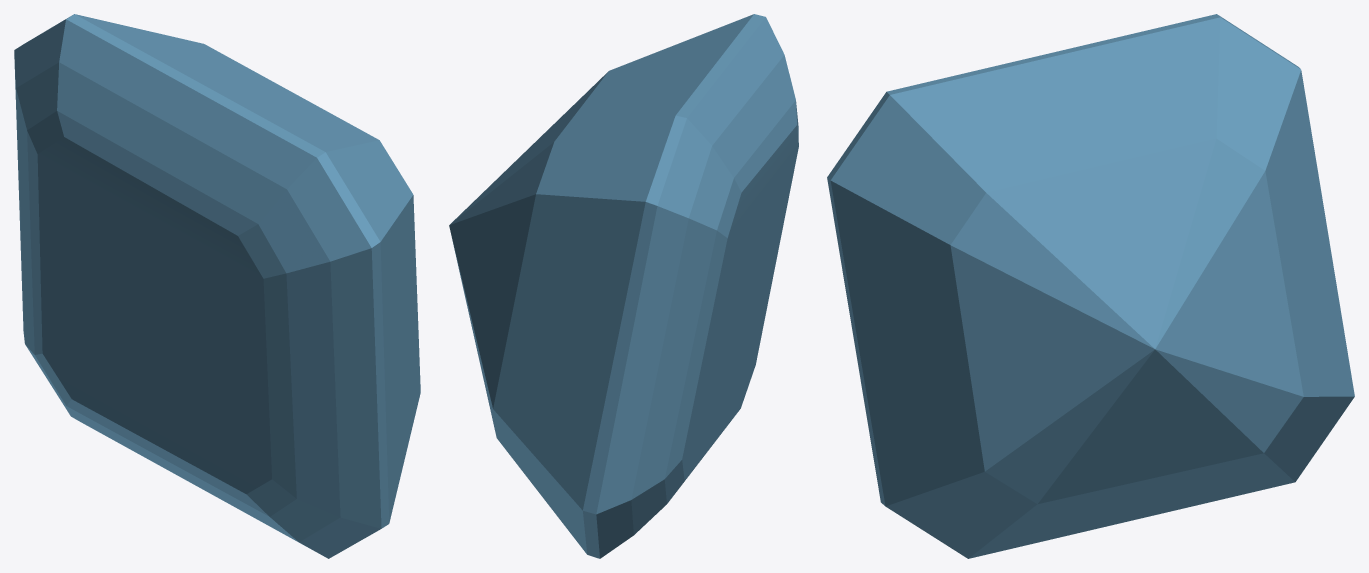
File: TL5_8shapes_Square_Classic_Stone.001 2.glb
The picture shows the model from 3 angles, left to right: view 1: azimuth 30°, elevation 25°; view 2: azimuth 150°, elevation 25°; view 3: azimuth 270°, elevation 25°; orthographic projection. The views are drawn at different scales.
Parts seen in each view (by area): view 1: TL5_8shapes_Square_Classic_Stone.001; view 2: TL5_8shapes_Square_Classic_Stone.001; view 3: TL5_8shapes_Square_Classic_Stone.001.
Part boxes in pixels (x1=…): TL5_8shapes_Square_Classic_Stone.001: x1=14, y1=14, x2=420, y2=558; TL5_8shapes_Square_Classic_Stone.001: x1=449, y1=14, x2=798, y2=558; TL5_8shapes_Square_Classic_Stone.001: x1=827, y1=14, x2=1354, y2=558.
Bounding box in the file's own units: 0.3245 × 0.4755 × 0.4765.
